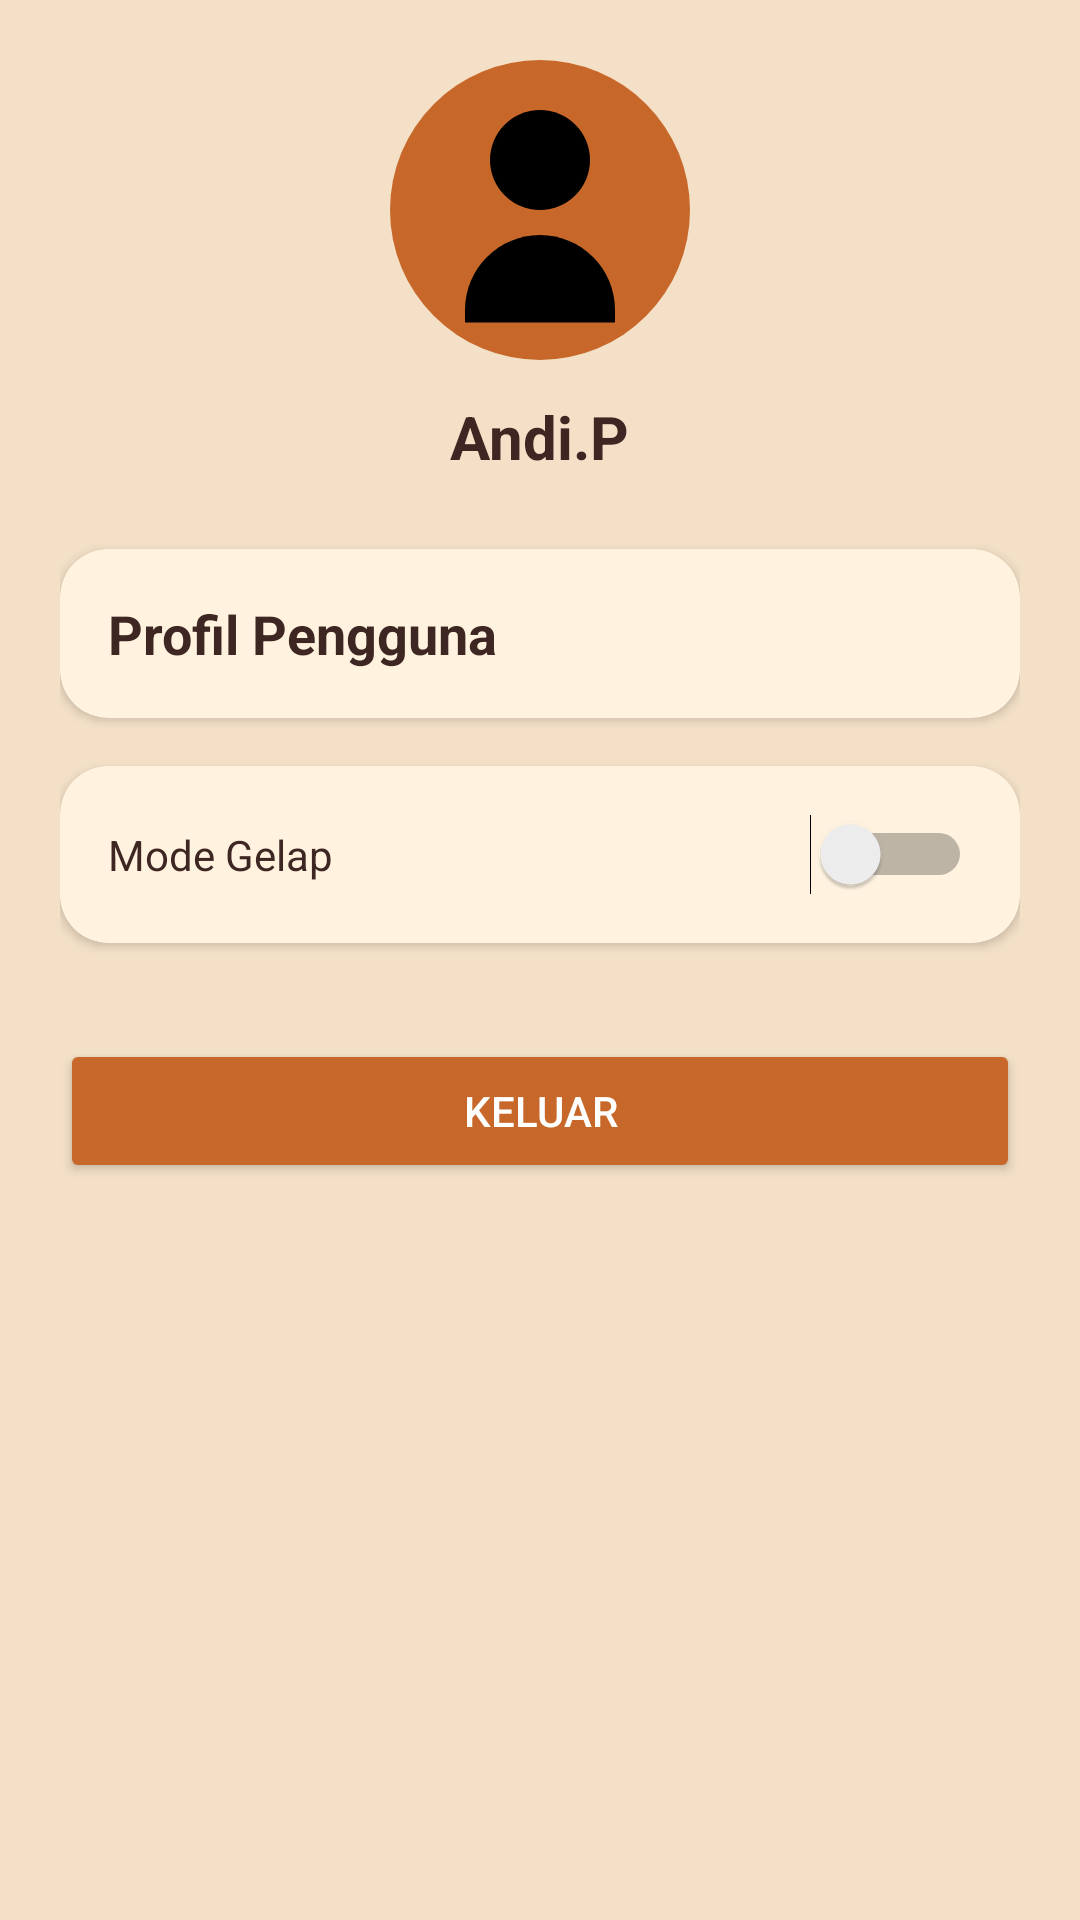

Screen size 1080x1920. Icon name, then its center in pixels as [x,y]:
profile: [540,210]
